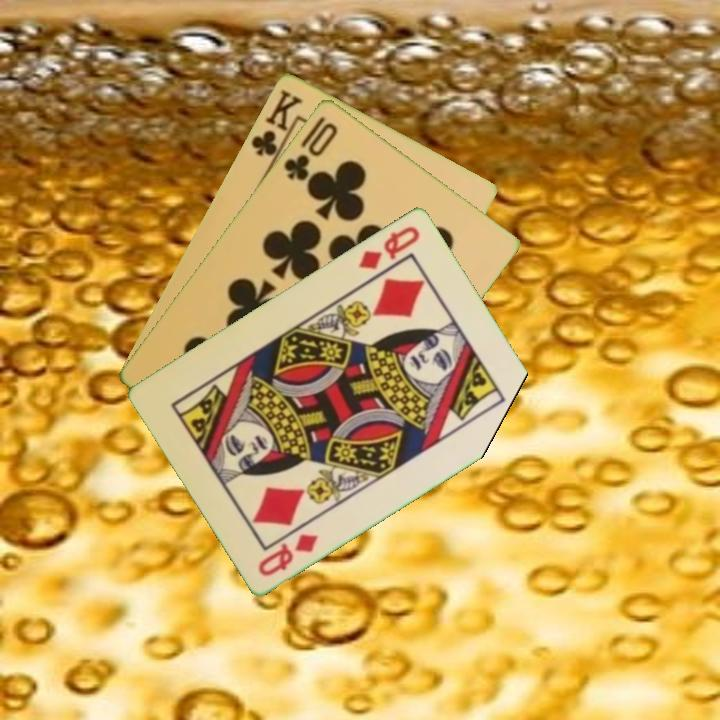10c: (280, 118, 341, 184)
Kc: (247, 85, 305, 167)
Qd: (354, 221, 424, 272), (254, 529, 322, 579)
